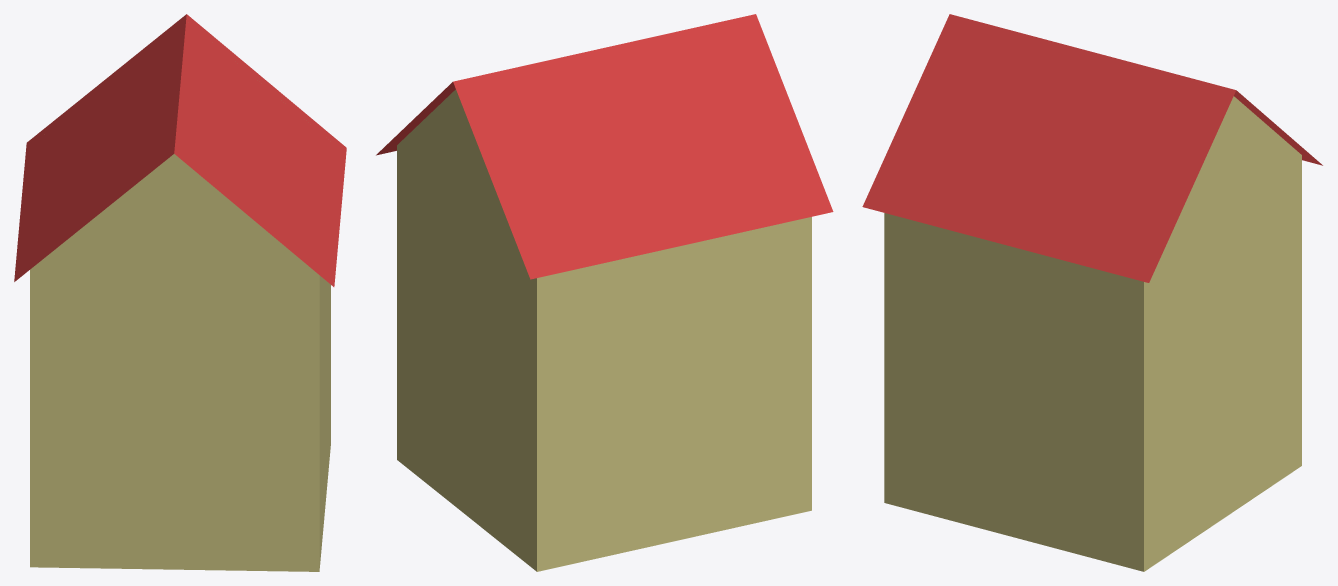
3 views of the same model, side by side, from view 1: azimuth 30°, elevation 25°; view 2: azimuth 150°, elevation 25°; view 3: azimuth 270°, elevation 25° (orthographic). The views are drawn at different scales.
Bounding box in the file's own units: 7.25 × 7.31 × 7.56.
